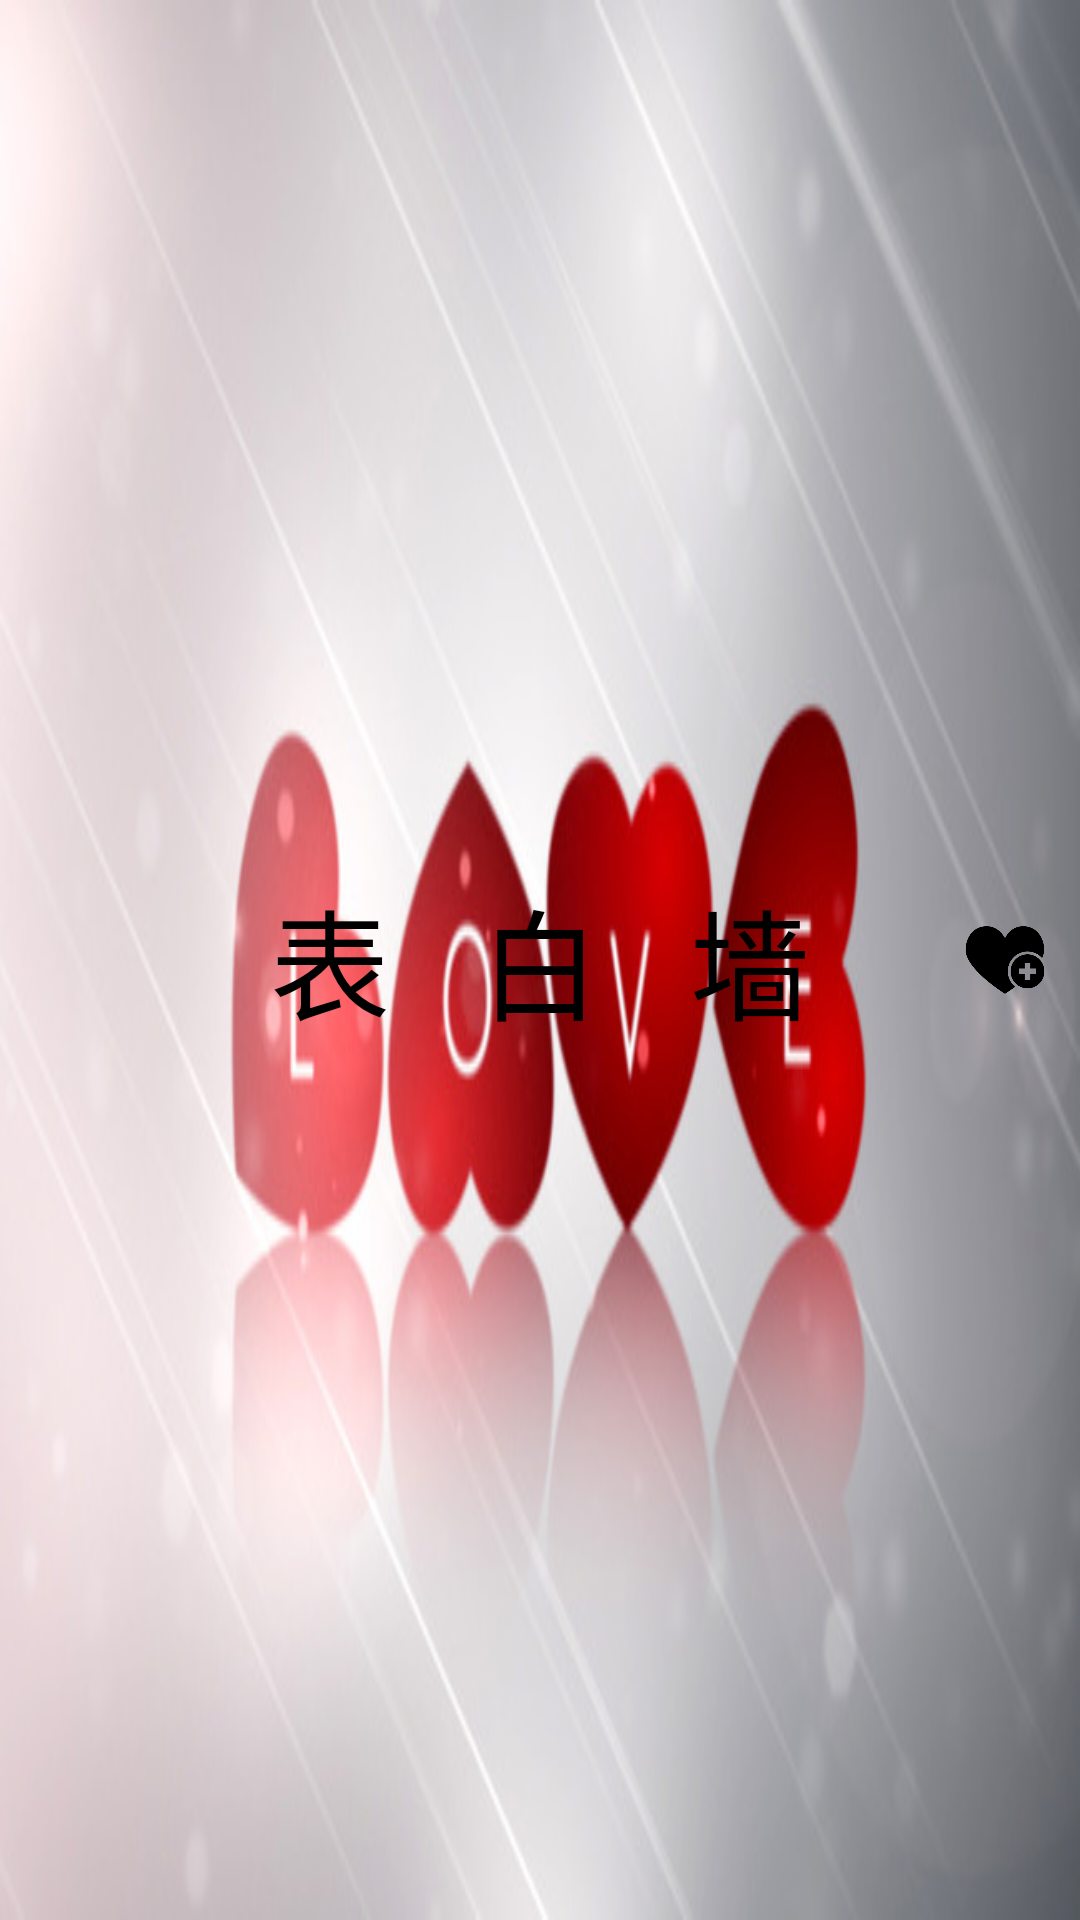

Icon click points for this 1080 × 1920 phone screenshot, format (x,y):
xintianjia: (1003,960)
